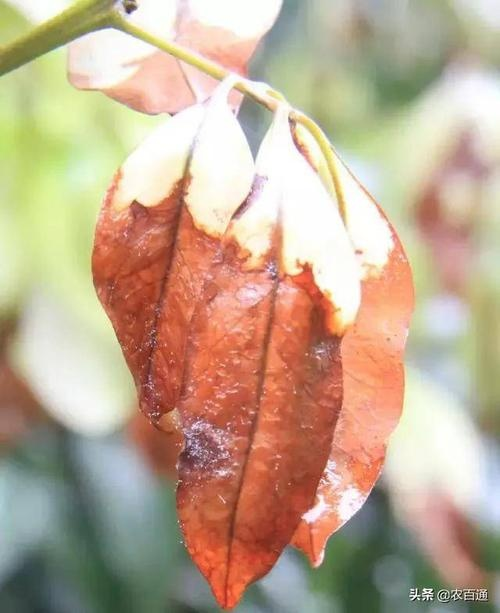Frost_Blight: (70, 172, 363, 556)
